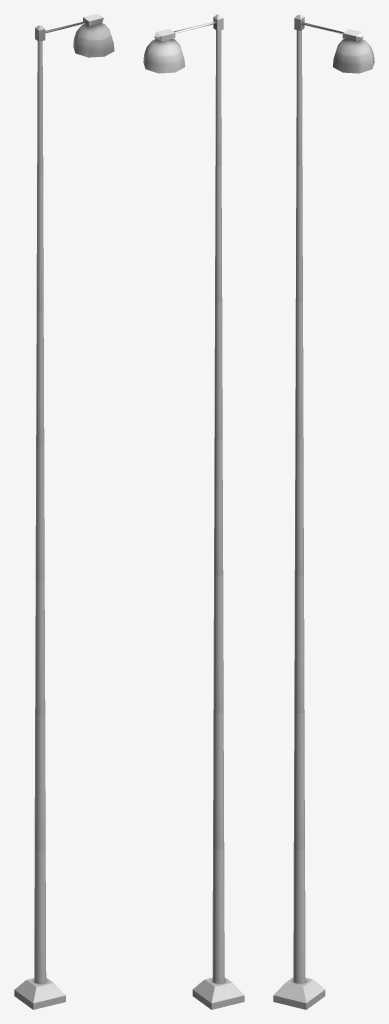
The picture shows the model from 3 angles, left to right: view 1: azimuth 30°, elevation 25°; view 2: azimuth 210°, elevation 25°; view 3: azimuth 330°, elevation 25°; orthographic projection.
Parts seen in each view (by area): view 1: body0_model0_lod0_mesh0; view 2: body0_model0_lod0_mesh0; view 3: body0_model0_lod0_mesh0.
Boxes of the visible parts, left/top/right/bottom form: body0_model0_lod0_mesh0: left=14, top=14, right=114, bottom=1009; body0_model0_lod0_mesh0: left=143, top=14, right=244, bottom=1009; body0_model0_lod0_mesh0: left=273, top=14, right=374, bottom=1009.
Bounding box in the file's own units: 79.46 × 834 × 33.31.
Materials: 1 (1 with a texture image).
